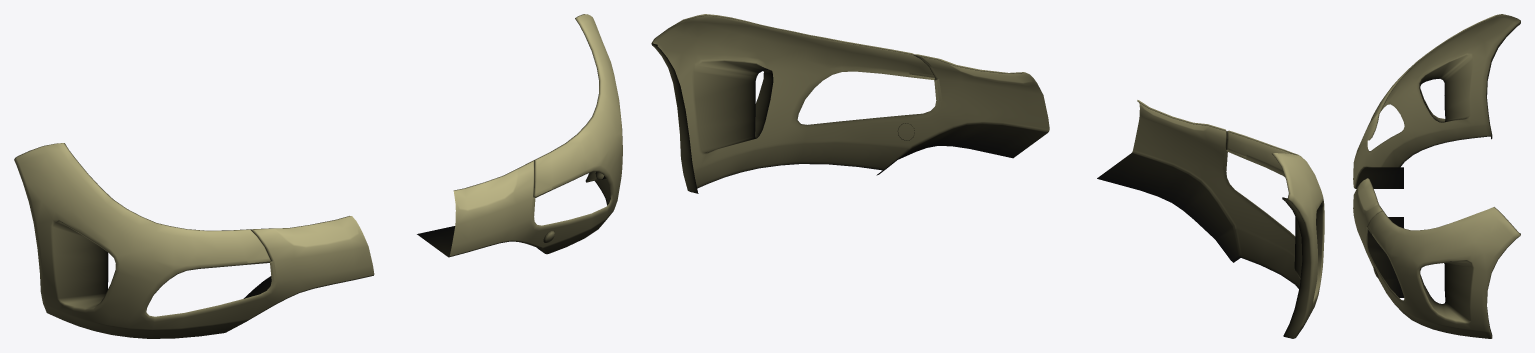
File: Agera_FB_Duco.fbx
The picture shows the model from 3 angles, left to right: view 1: azimuth 30°, elevation 25°; view 2: azimuth 150°, elevation 25°; view 3: azimuth 270°, elevation 25°; orthographic projection. The views are drawn at different scales.
Visible parts, largest first — view 1: Agera_FB_Duco; view 2: Agera_FB_Duco; view 3: Agera_FB_Duco.
Part boxes in pixels (bbox=[...]): Agera_FB_Duco: bbox=[14, 14, 622, 338]; Agera_FB_Duco: bbox=[651, 14, 1324, 338]; Agera_FB_Duco: bbox=[1353, 14, 1520, 338].
Size of the model in its own units: 195 by 53.48 by 64.45.
